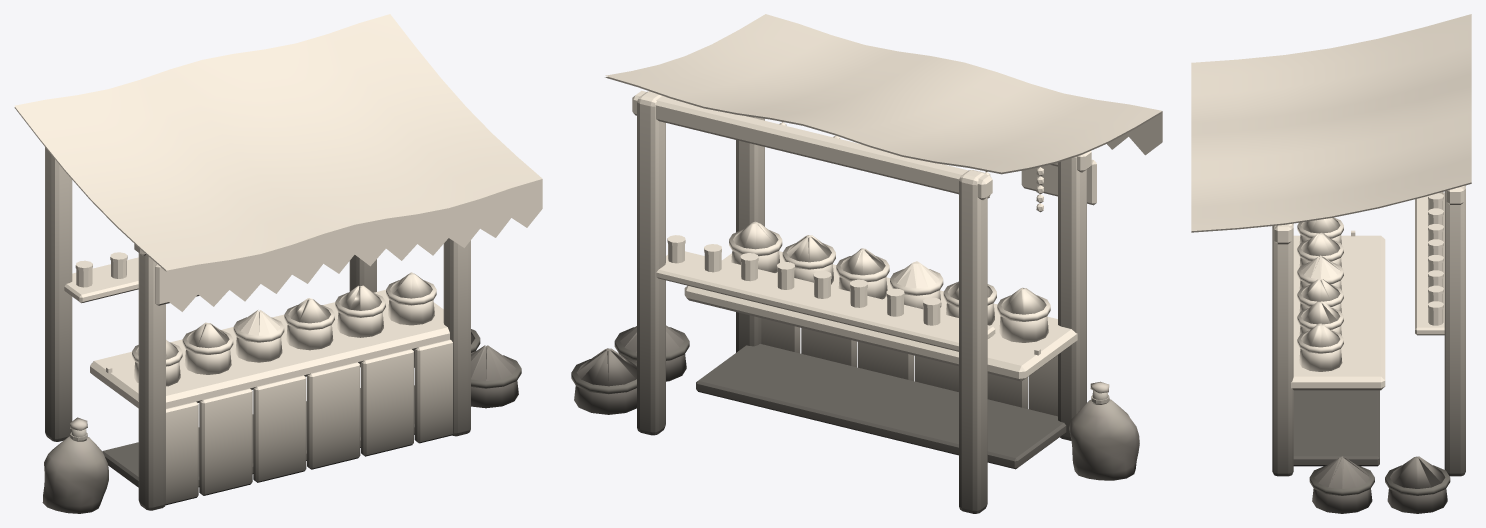
File: SM_VK_MarketStall_Spicer.fbx
3 renders of one model, left to right at view 1: azimuth 30°, elevation 25°; view 2: azimuth 150°, elevation 25°; view 3: azimuth 270°, elevation 25°, orthographic. The views are drawn at different scales.
Visible parts, largest first — view 1: SM_VK_MarketStall_Spicer.001; view 2: SM_VK_MarketStall_Spicer.001; view 3: SM_VK_MarketStall_Spicer.001.
Part boxes in pixels (bbox=[...]): SM_VK_MarketStall_Spicer.001: bbox=[14, 14, 542, 513]; SM_VK_MarketStall_Spicer.001: bbox=[571, 14, 1162, 513]; SM_VK_MarketStall_Spicer.001: bbox=[1191, 14, 1471, 513].
Bounding box in the file's own units: 4.72 × 3.17 × 2.6.
